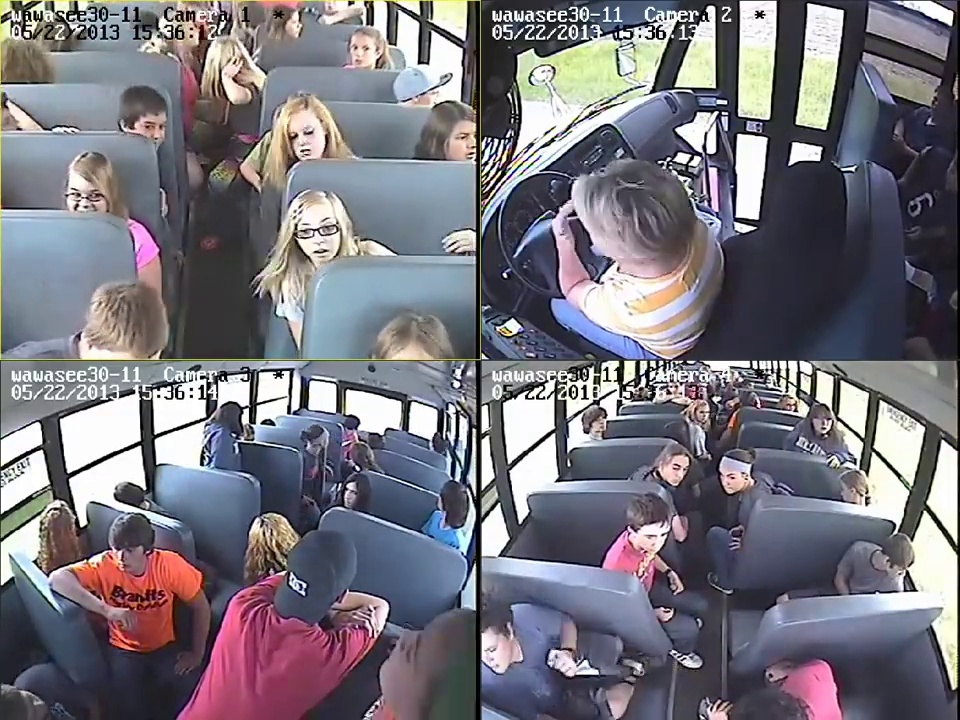face: (478, 627, 547, 672), (297, 209, 336, 264), (284, 114, 317, 160), (65, 179, 106, 212), (445, 121, 477, 160), (136, 105, 164, 145), (110, 545, 143, 574), (718, 466, 747, 497), (350, 33, 375, 68), (637, 527, 667, 553), (666, 452, 689, 483), (339, 481, 364, 509), (811, 414, 836, 434), (587, 412, 607, 433), (284, 15, 304, 35), (696, 407, 710, 423), (781, 398, 798, 411)
